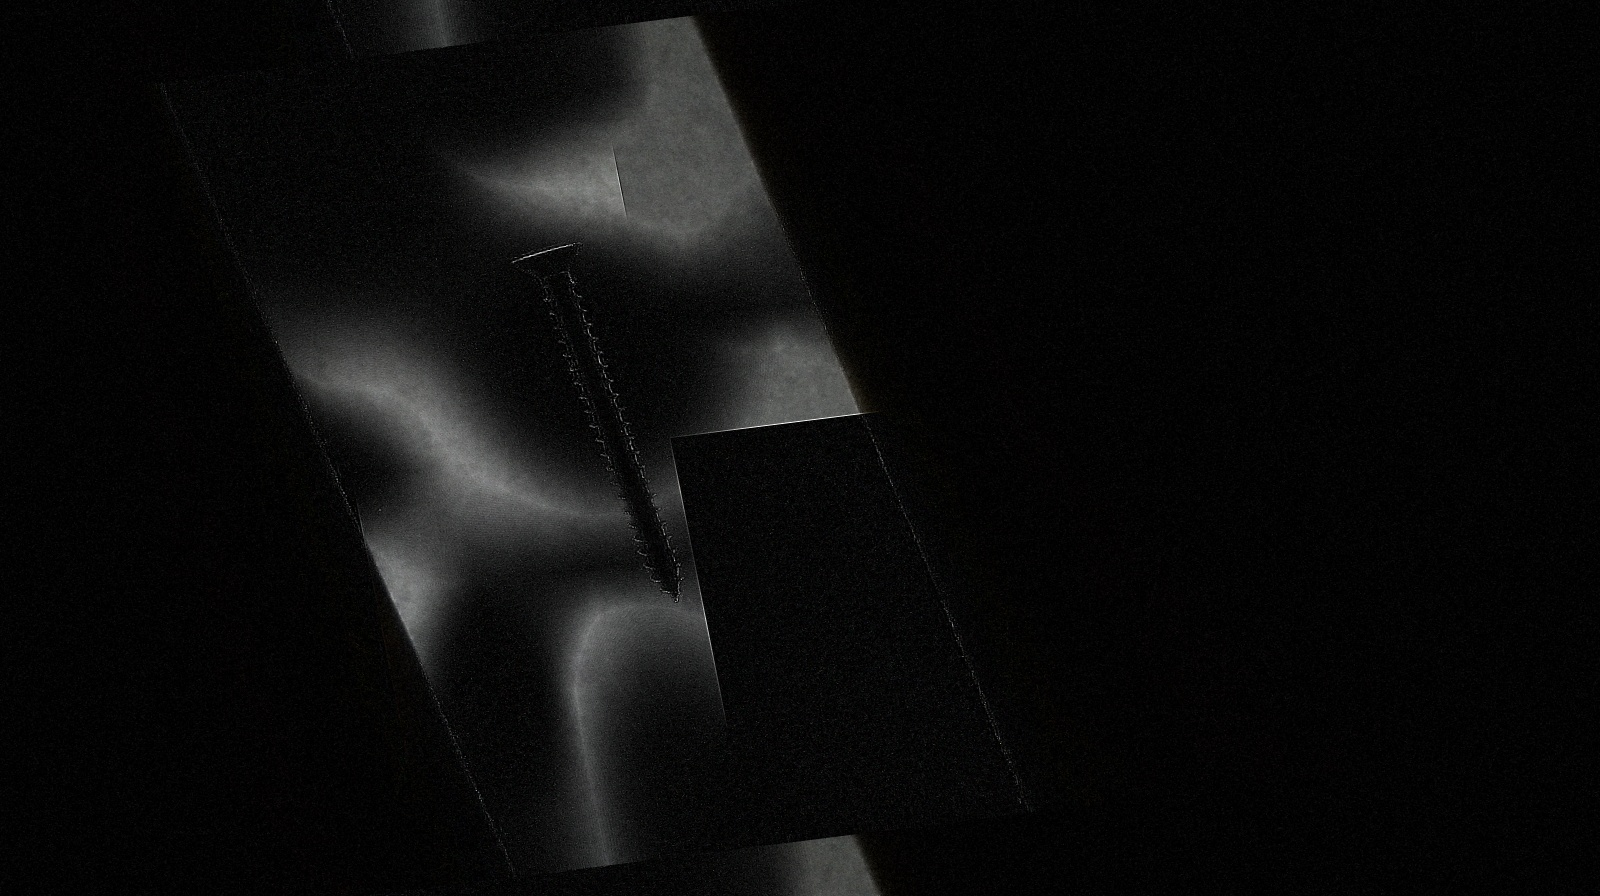S002: (484, 224, 721, 623)
